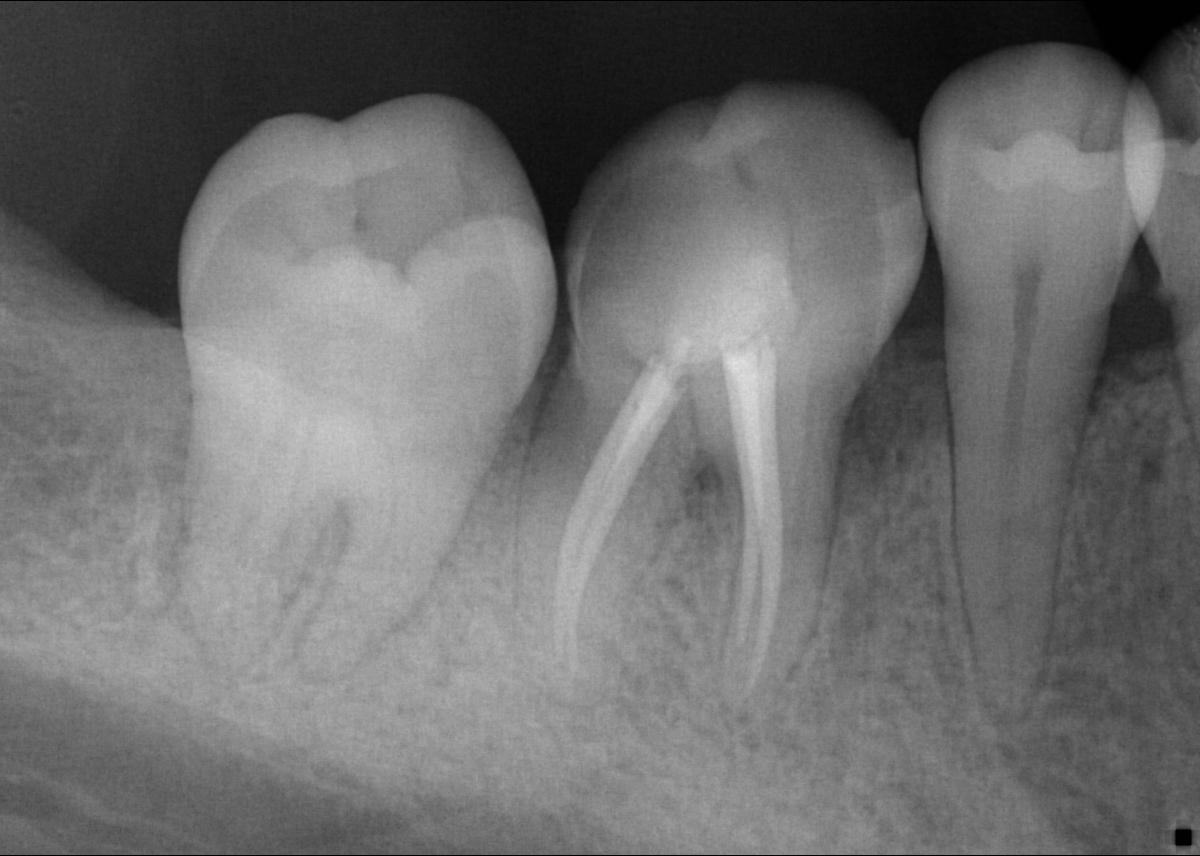Endo-Periodontal Lesion: (681, 452, 727, 514)
